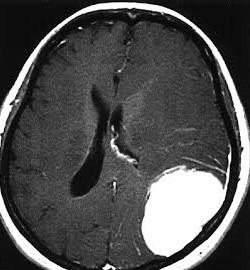Tumour-Meningioma: (141, 155, 219, 268)
